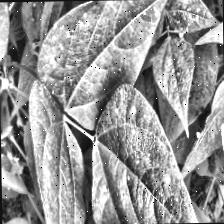Bean Rust: (32, 0, 177, 130), (96, 79, 224, 224), (148, 37, 199, 129), (162, 0, 221, 32)
